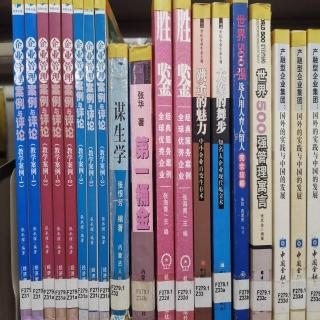book-spine: (126, 44, 158, 319), (10, 1, 33, 320), (22, 1, 45, 320), (192, 3, 214, 320), (173, 3, 195, 318), (250, 5, 272, 320), (35, 2, 56, 320), (154, 2, 175, 319), (212, 2, 233, 319), (107, 43, 131, 319), (48, 0, 67, 319), (231, 3, 250, 320), (271, 26, 291, 319), (61, 1, 79, 319), (82, 2, 99, 320), (94, 2, 111, 319), (73, 1, 89, 320), (289, 30, 306, 320), (307, 30, 319, 320)
